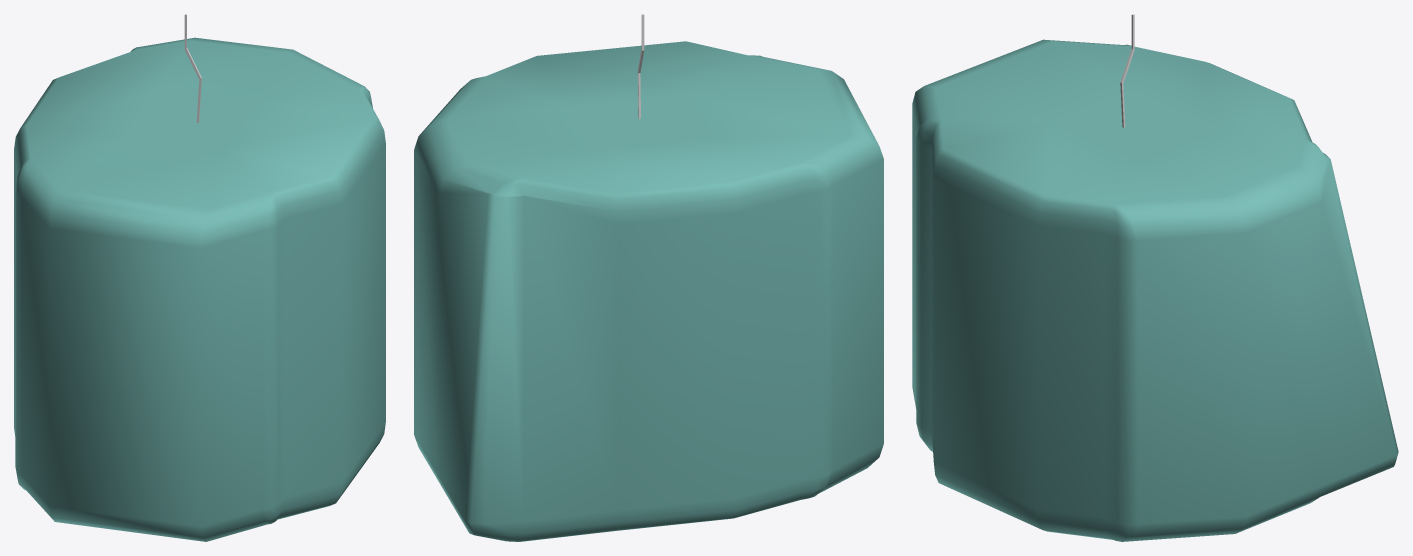
Rendered from candle rescale no stone.FBX.
3 views of the same model, side by side, from view 1: azimuth 30°, elevation 25°; view 2: azimuth 150°, elevation 25°; view 3: azimuth 270°, elevation 25° (orthographic). The views are drawn at different scales.
Visible parts, largest first — view 1: the candle wax; view 2: the candle wax; view 3: the candle wax.
Part boxes in pixels (x1,y1,x2,y2): the candle wax: (14,37,385,541); the candle wax: (414,41,883,541); the candle wax: (912,39,1398,541).
Size of the model in its own units: 7.67 by 8.65 by 8.57.
